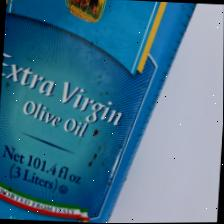metal: (0, 0, 186, 223)
